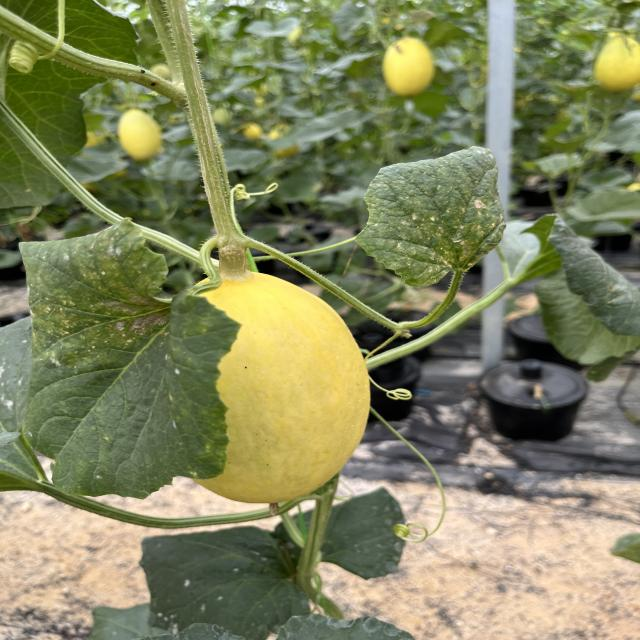CMV: (350, 142, 508, 291)
downy mildew: (0, 222, 264, 503)
